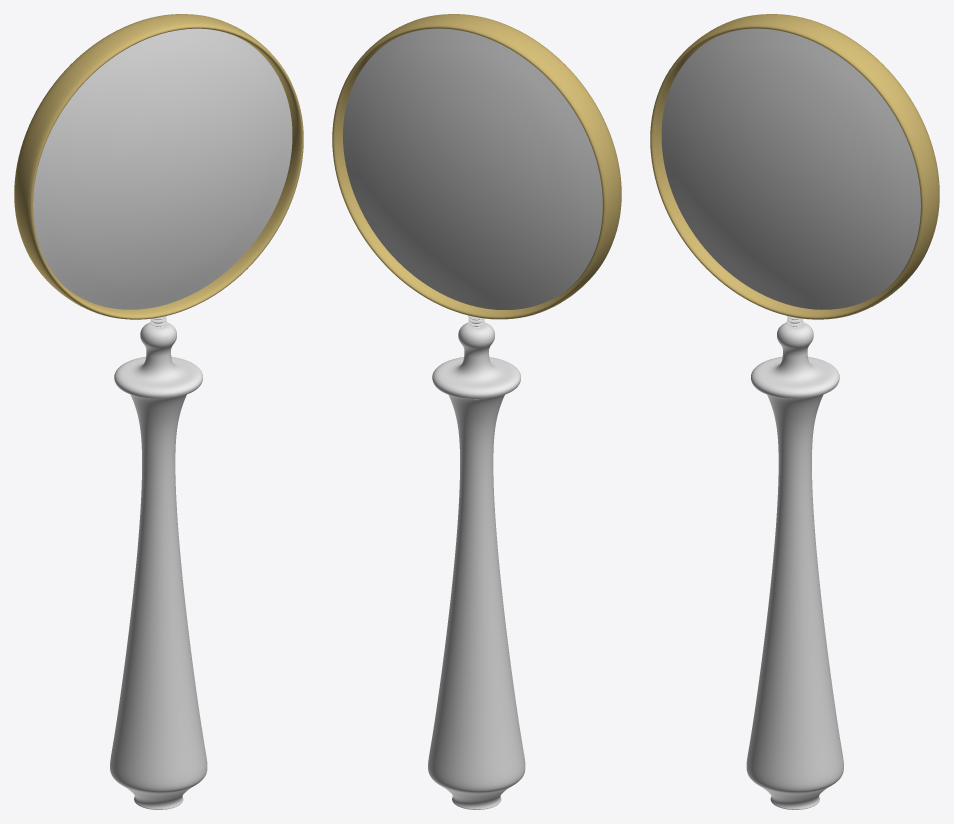
Rendered from magnifier.fbx.
3 views of the same model, side by side, from view 1: azimuth 30°, elevation 25°; view 2: azimuth 150°, elevation 25°; view 3: azimuth 330°, elevation 25° (orthographic).
Parts seen in each view (by area): view 1: Lens, magnifier_stick, magnifier_LensHolder; view 2: Lens, magnifier_stick, magnifier_LensHolder; view 3: Lens, magnifier_stick, magnifier_LensHolder.
Part boxes in pixels (<box>): Lens: <box>33,28,292,309</box>; magnifier_stick: <box>110,316,207,809</box>; magnifier_LensHolder: <box>14,14,303,319</box>; Lens: <box>343,28,602,309</box>; magnifier_stick: <box>428,315,525,809</box>; magnifier_LensHolder: <box>332,14,621,319</box>; Lens: <box>661,28,920,309</box>; magnifier_stick: <box>746,316,843,809</box>; magnifier_LensHolder: <box>650,14,939,319</box>.
Bounding box in the file's own units: 109 × 293 × 33.26.
